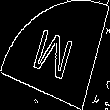M_S: (30, 23, 80, 87)
